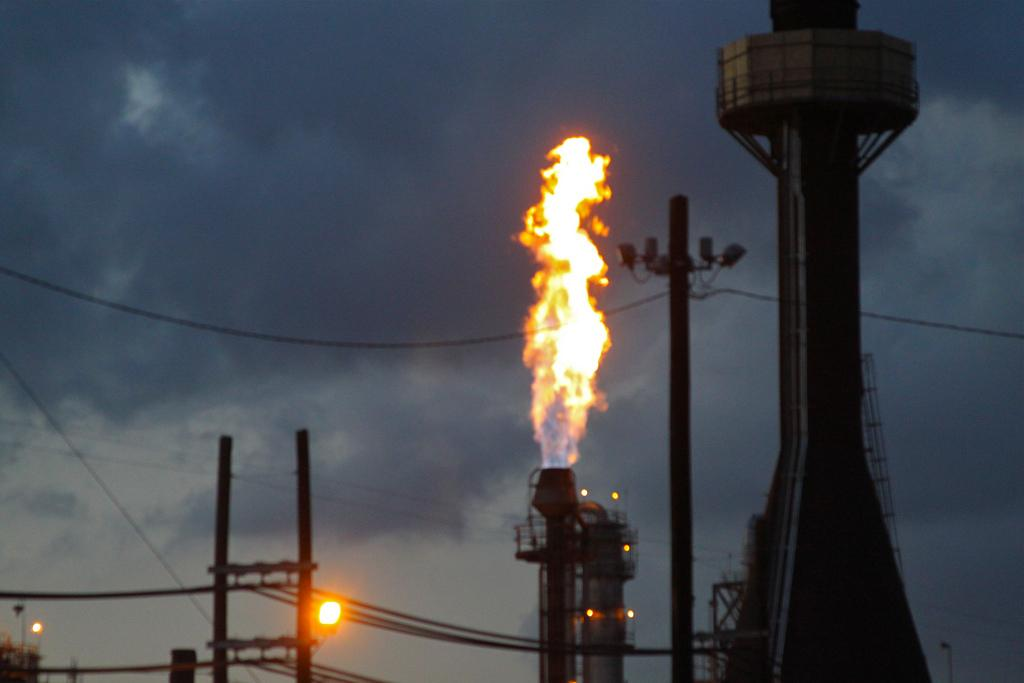fire: (537, 150, 592, 440)
